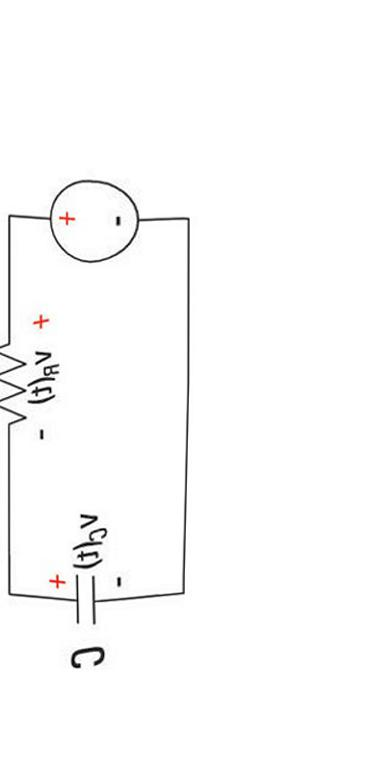Battery: (33, 161, 157, 285)
